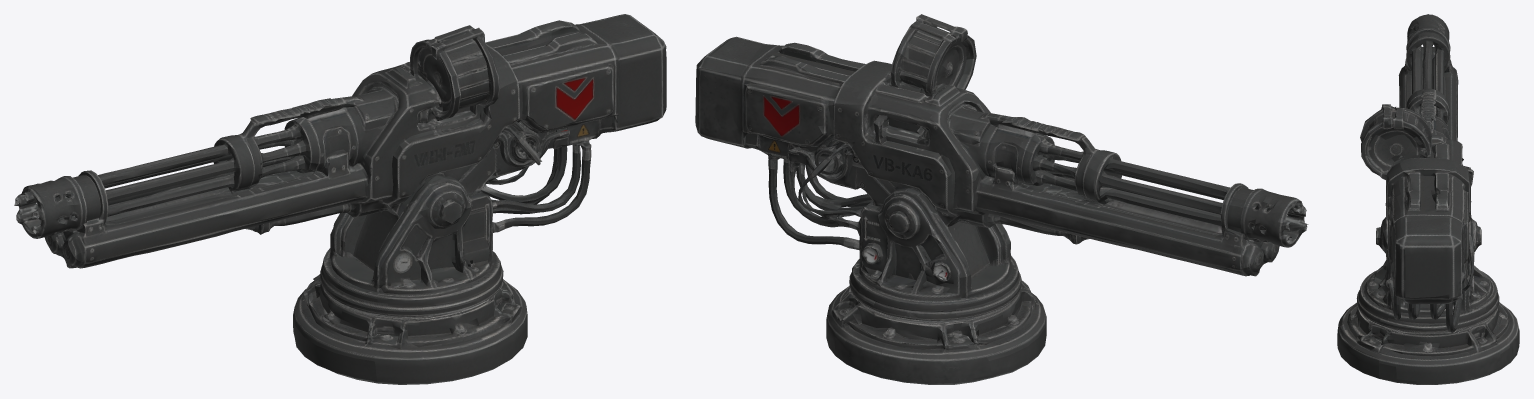
3 views of the same model, side by side, from view 1: azimuth 30°, elevation 25°; view 2: azimuth 150°, elevation 25°; view 3: azimuth 270°, elevation 25° (orthographic). The views are drawn at different scales.
Visible parts, largest first — view 1: Mesh0; view 2: Mesh0; view 3: Mesh0.
Part boxes in pixels (box(x1,y1,x2,y2)): Mesh0: box(14, 14, 666, 384); Mesh0: box(695, 14, 1308, 384); Mesh0: box(1337, 14, 1519, 384).
Bounding box in the file's own units: 1.9 × 0.9164 × 0.6119.
Materials: 1 (1 with a texture image).
